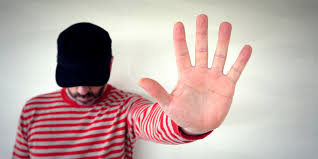hand: (133, 10, 260, 136)
